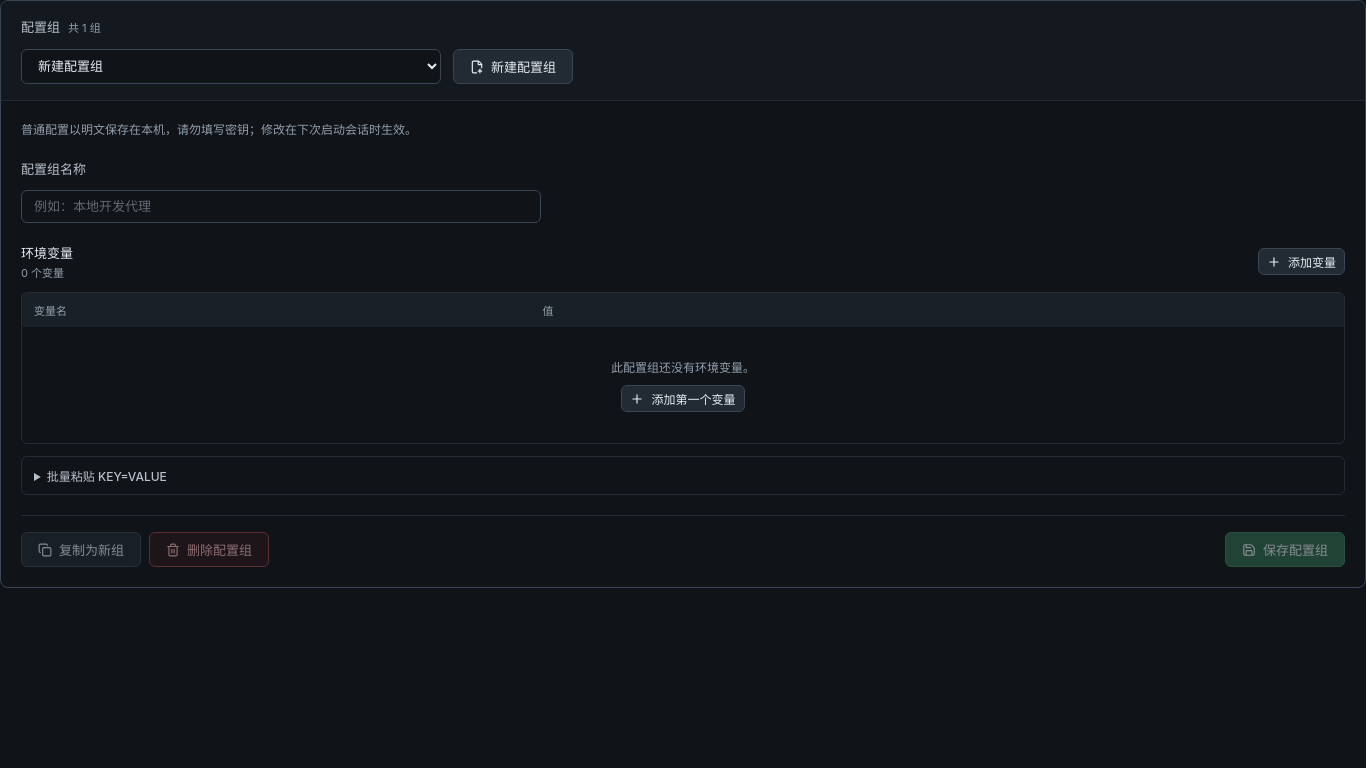
Test: environment configuration UI › disables deletion of referenced groups and copies them as new drafts
This screenshot has width=1366, height=768.
Select "开发" in the dropdown labelled "配置组" at {"x": 231, "y": 66}, box x1=21 y1=49 x2=441 y2=84
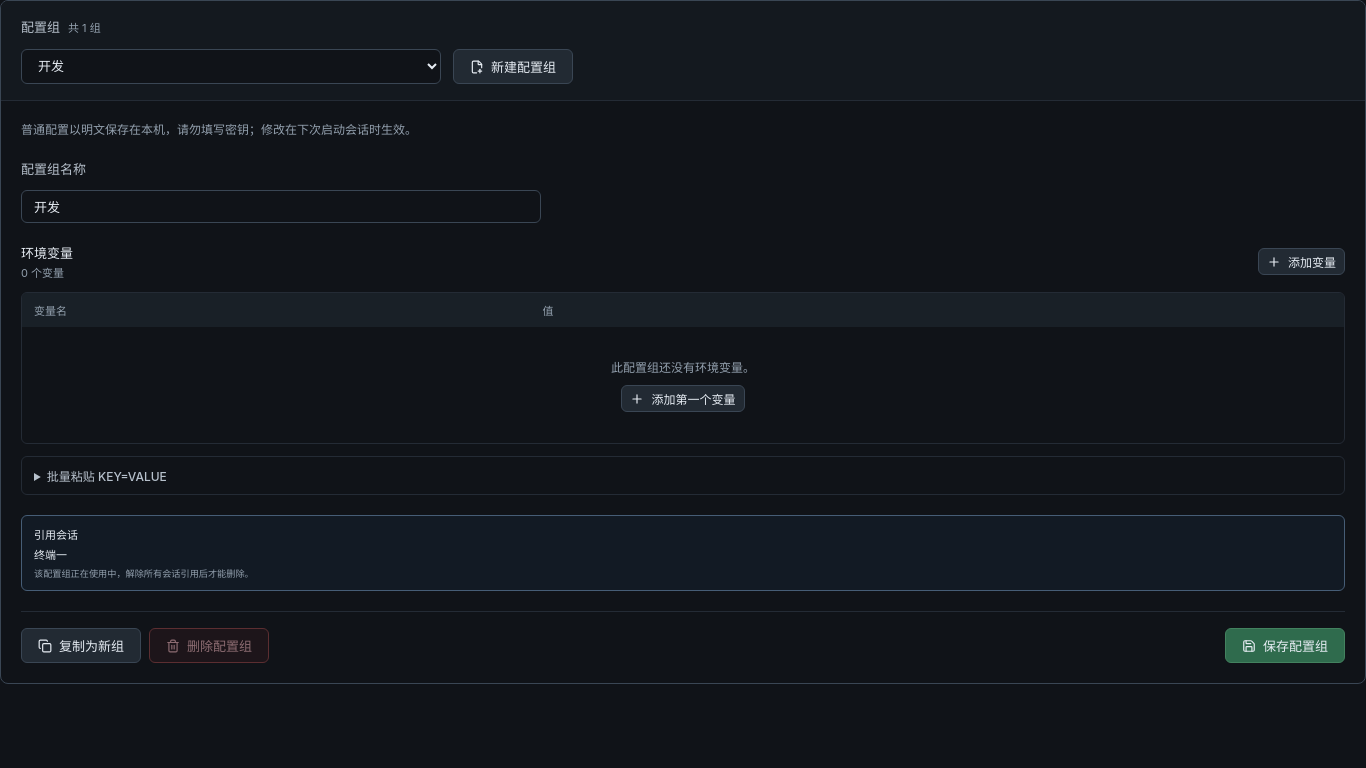
Expected: the button "删除配置组" is disabled, x1=149 y1=628 x2=269 y2=663
Expected: the text "终端一" is shown, x1=34 y1=548 x2=67 y2=562
Click the button "复制为新组" at {"x": 81, "y": 646}, box x1=21 y1=628 x2=141 y2=663
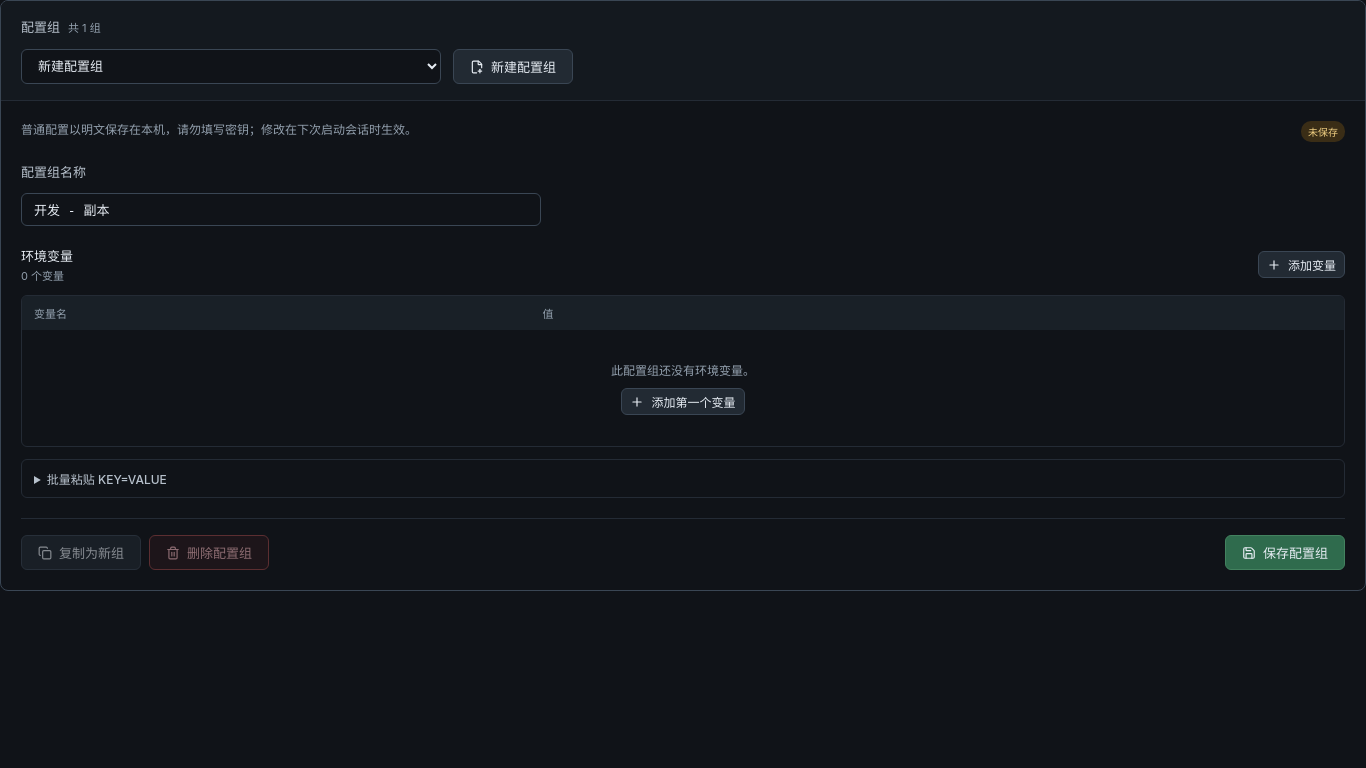
Expected: the field labelled "配置组名称" holds "开发 - 副本", x1=21 y1=193 x2=541 y2=226
